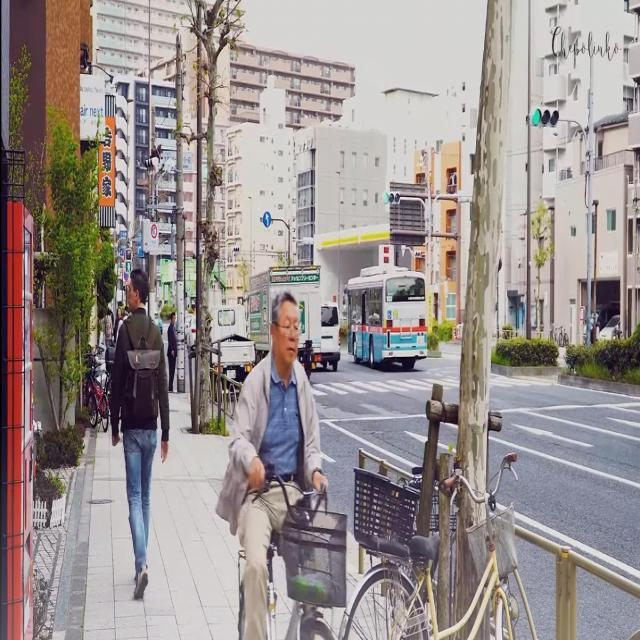bicycle: (346, 432, 541, 640), (215, 442, 358, 640)
bus: (338, 262, 447, 380)
